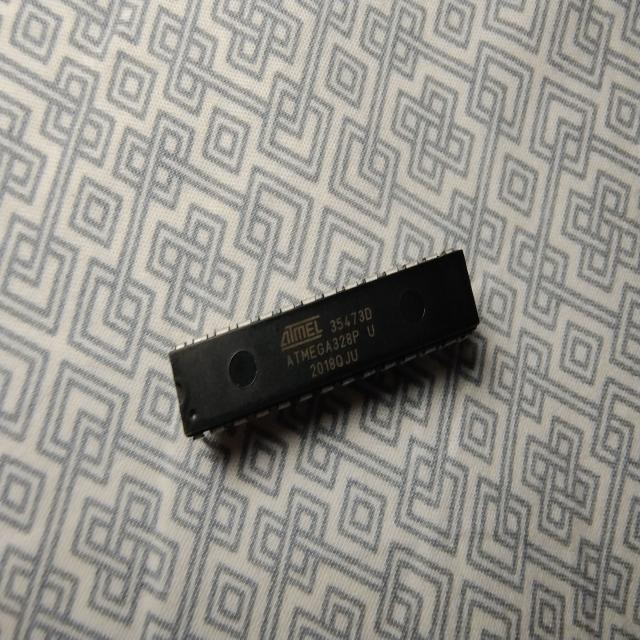atmega: (166, 246, 482, 442)
